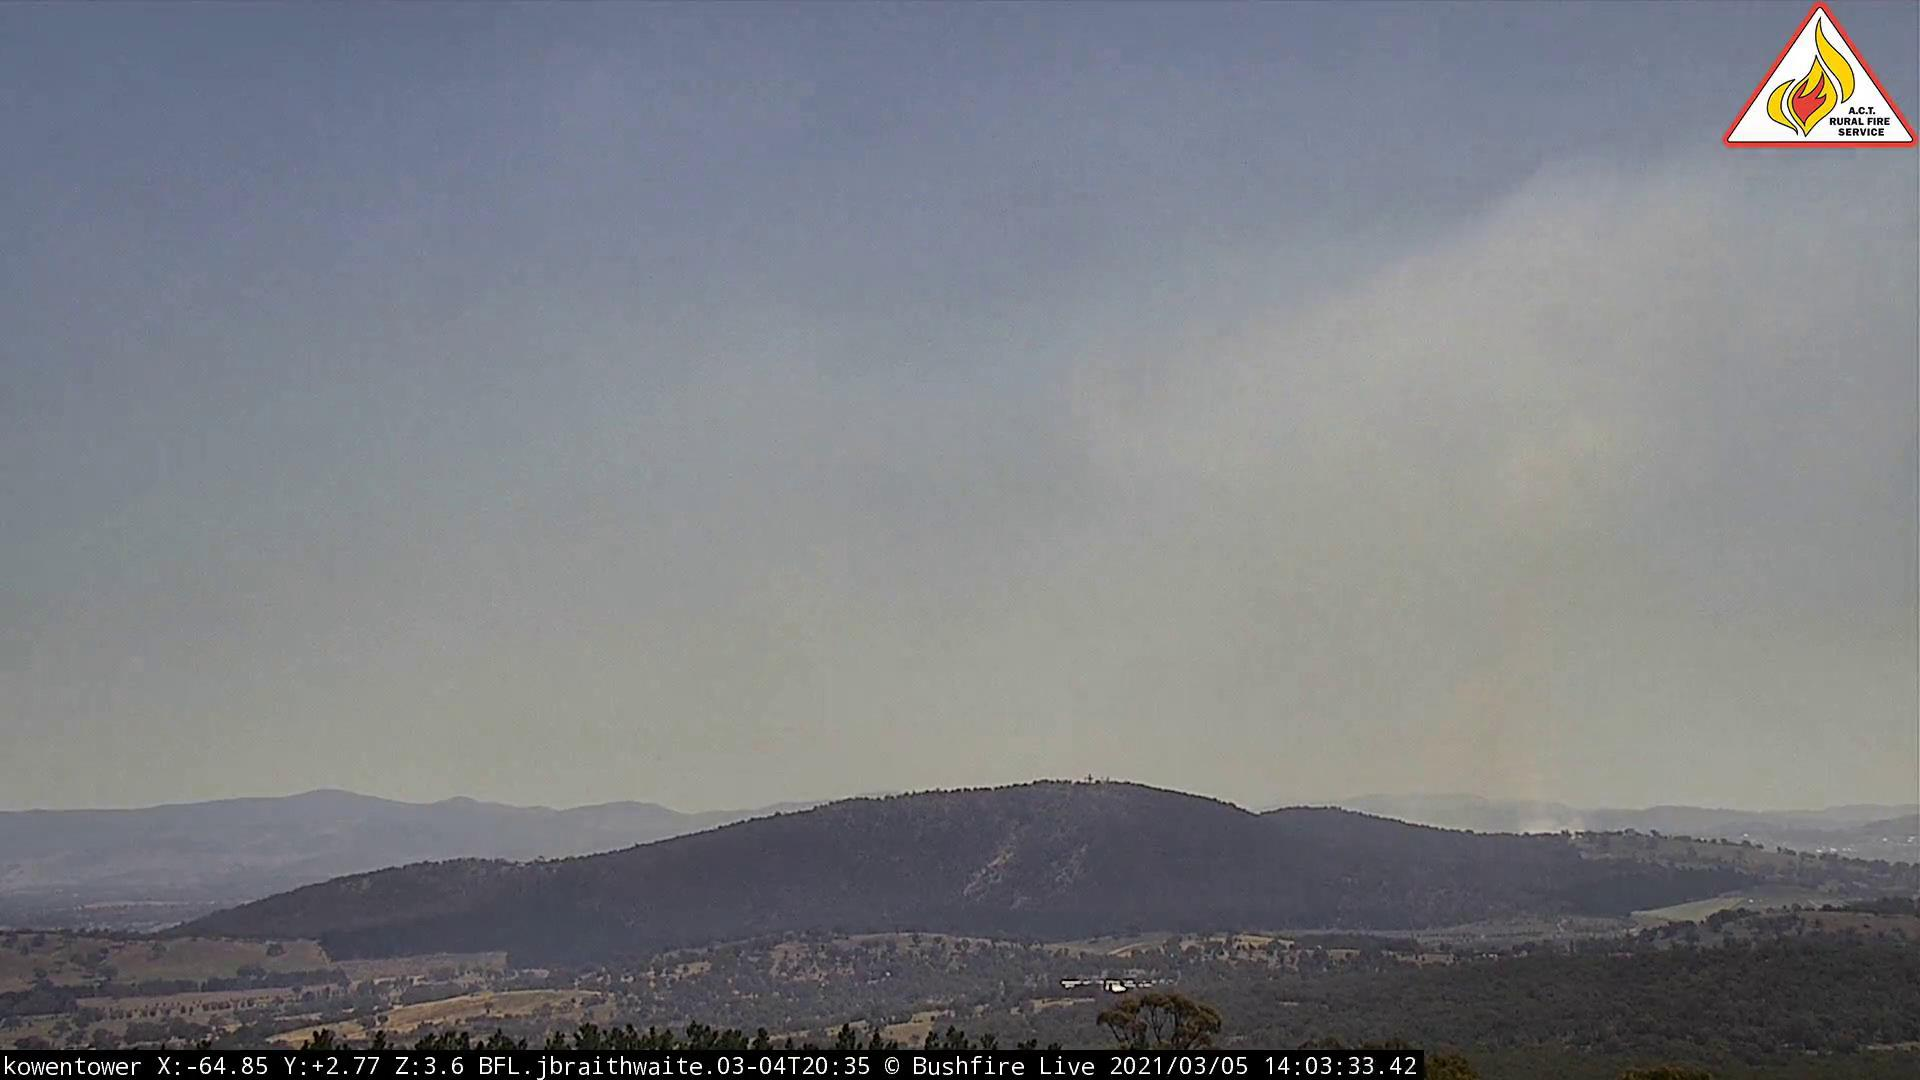Smoke: (1366, 396, 1693, 841)
